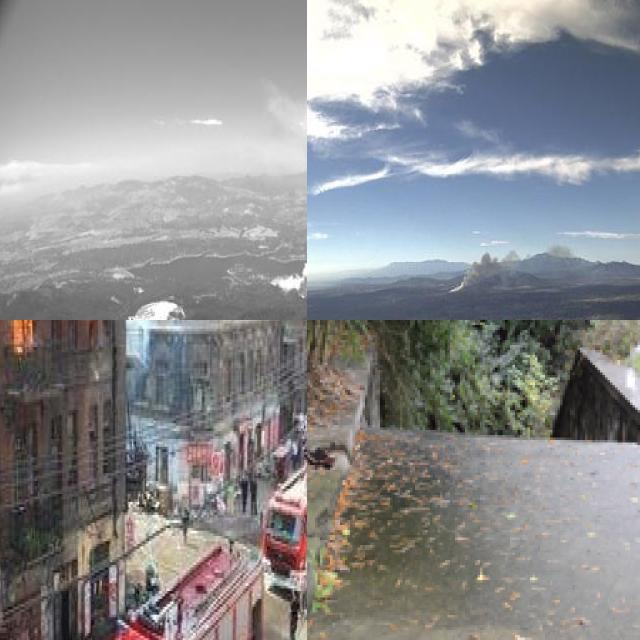smoke: (263, 33, 307, 295), (446, 241, 579, 295)
